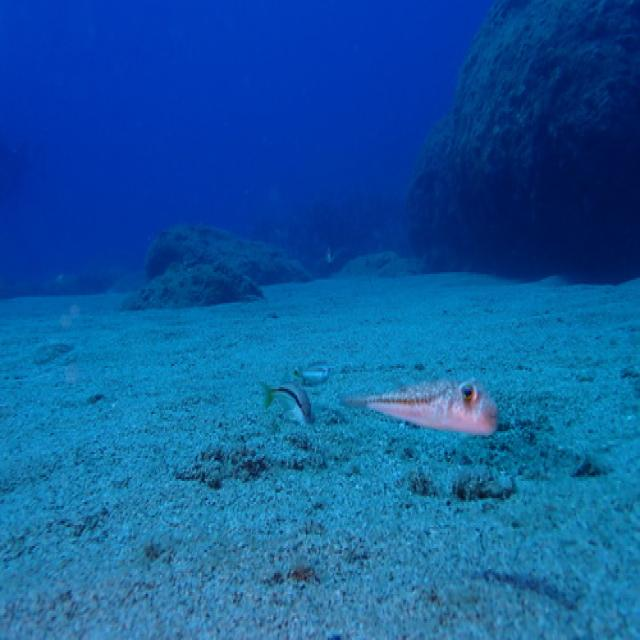Balik: (344, 380, 497, 434), (263, 382, 312, 423), (295, 361, 330, 385)
